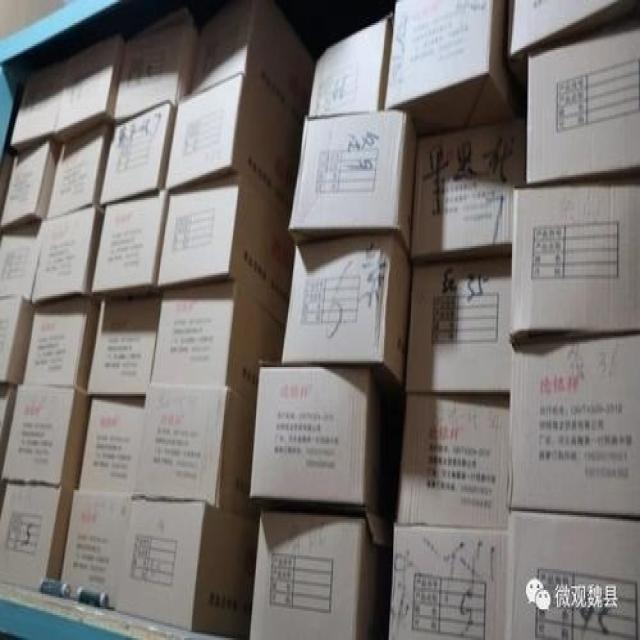Carton: (134, 0, 637, 638), (280, 236, 410, 386), (526, 21, 637, 185), (248, 507, 385, 638), (120, 500, 250, 638), (59, 394, 141, 605), (247, 371, 367, 505), (101, 23, 186, 200), (1, 384, 72, 477), (92, 192, 159, 290), (88, 298, 155, 390), (0, 480, 58, 586), (55, 35, 118, 131), (19, 298, 84, 382), (31, 206, 92, 292), (46, 121, 104, 211), (0, 136, 47, 223), (0, 221, 37, 294)
